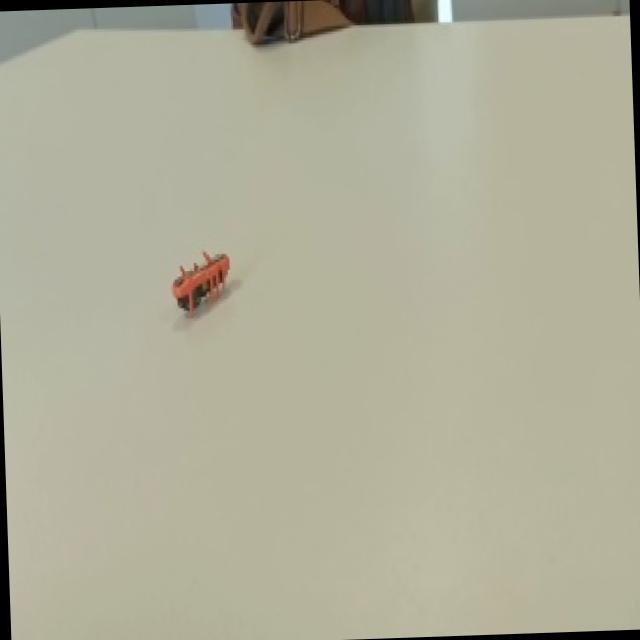7_NanoBug_Naranja: (158, 231, 255, 315)
